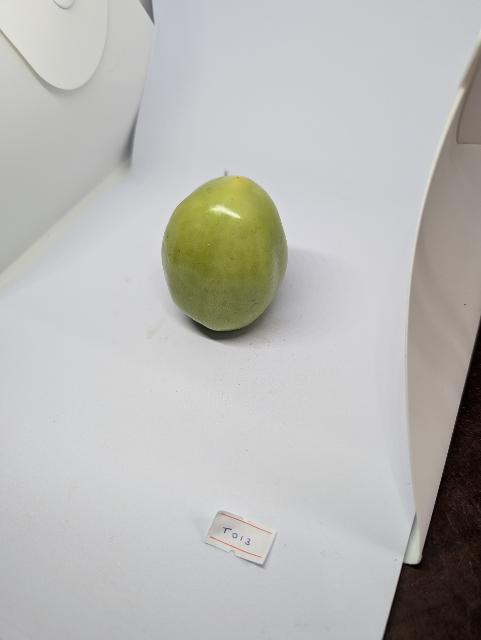green: (160, 174, 290, 335)
